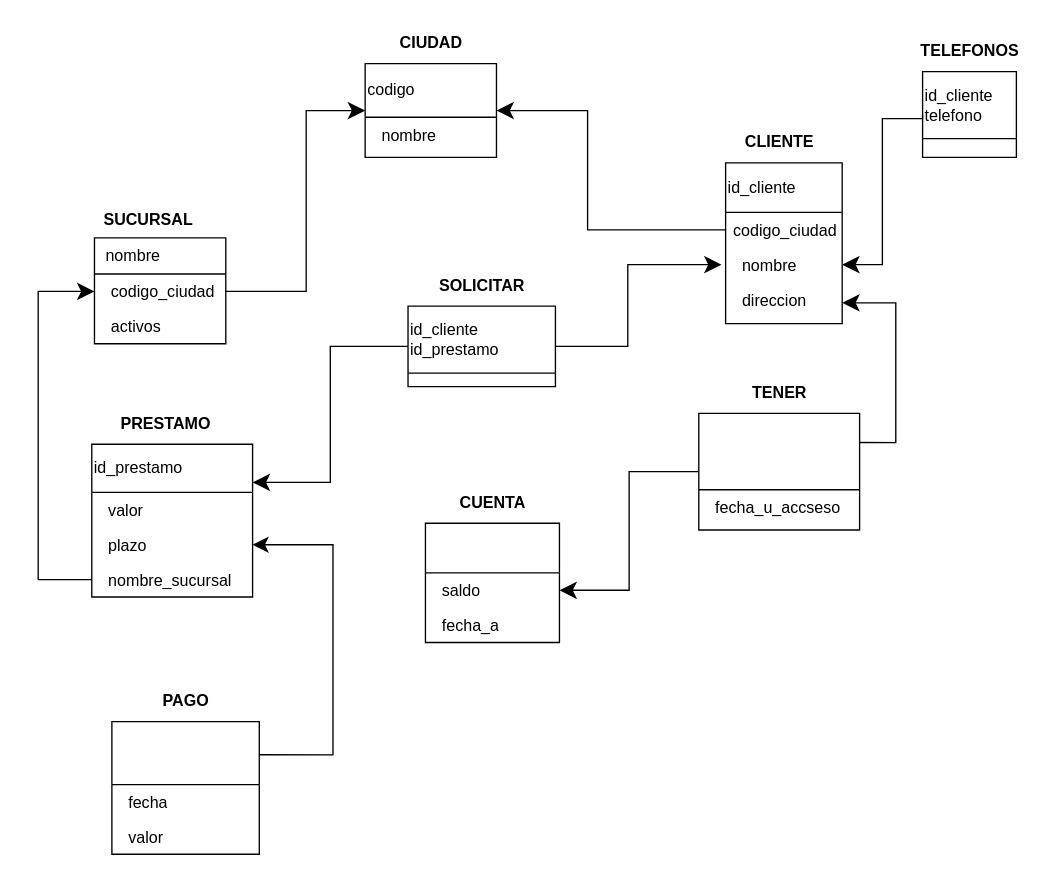
The diagram is 1060 pixels wide and 880 high, and some of its shapes have lost their labels. Each missing label, with the box of its shape:
id_prestamo numero_pago: (111, 720, 259, 854)
numero_cuenta: (424, 522, 559, 643)
numero_cuenta id_cliente: (697, 412, 860, 530)
